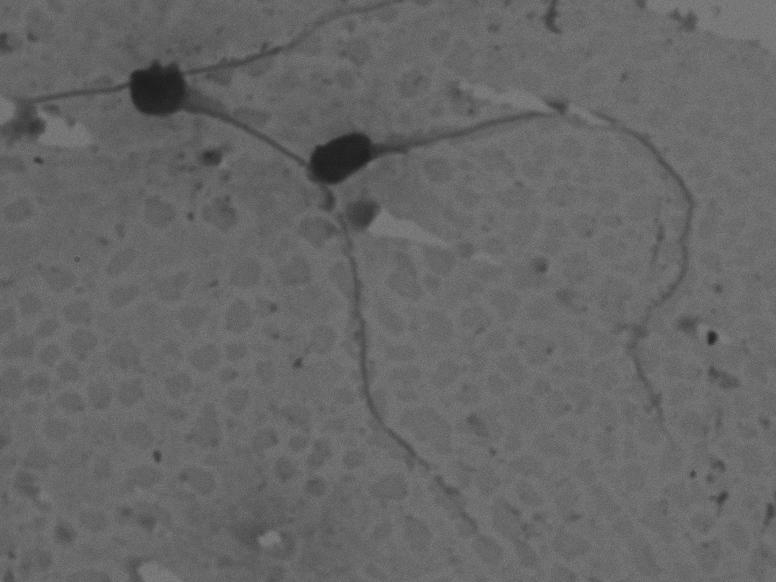Abnormal: (105, 38, 506, 547), (298, 81, 714, 442)
